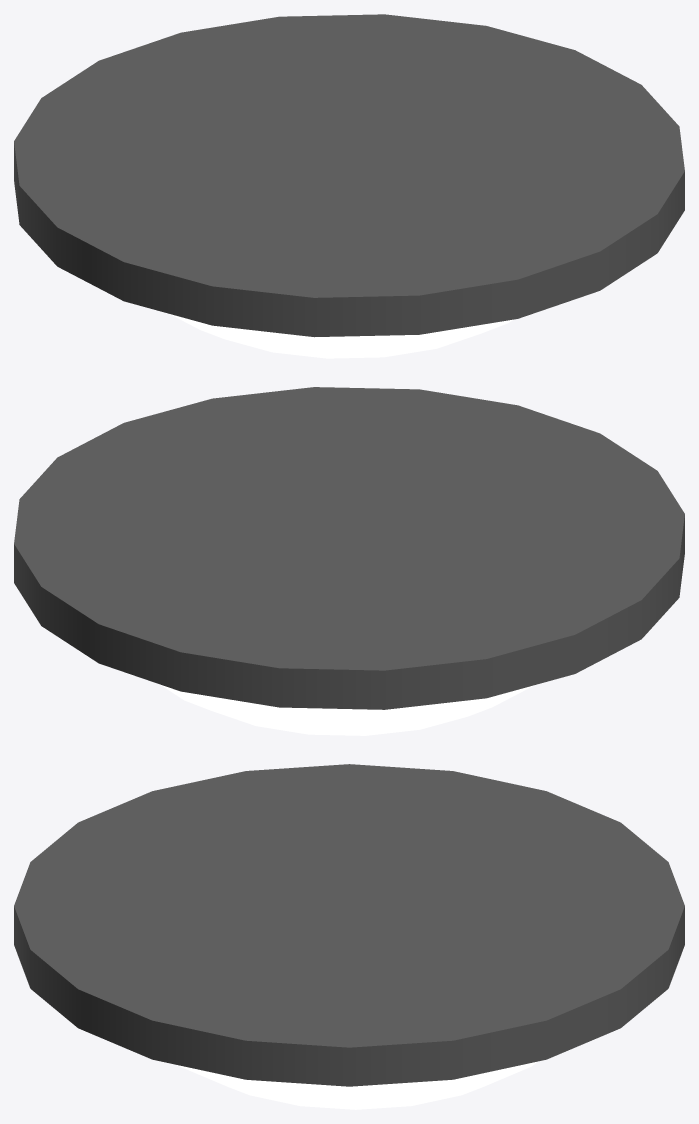
Rendered from ass_13_lights(cell).fbx.
The picture shows the model from 3 angles, top to bottom: view 1: azimuth 30°, elevation 25°; view 2: azimuth 150°, elevation 25°; view 3: azimuth 270°, elevation 25°; orthographic projection.
Visible parts, largest first — view 1: polySurface2; view 2: polySurface2; view 3: polySurface2.
Boxes of the visible parts, x1,y1,x2,y2 form: polySurface2: (14,14,684,358); polySurface2: (14,387,684,735); polySurface2: (14,764,684,1109).
Bounding box in the file's own units: 42.2 × 11 × 42.2.
2 materials, 2 textured.
